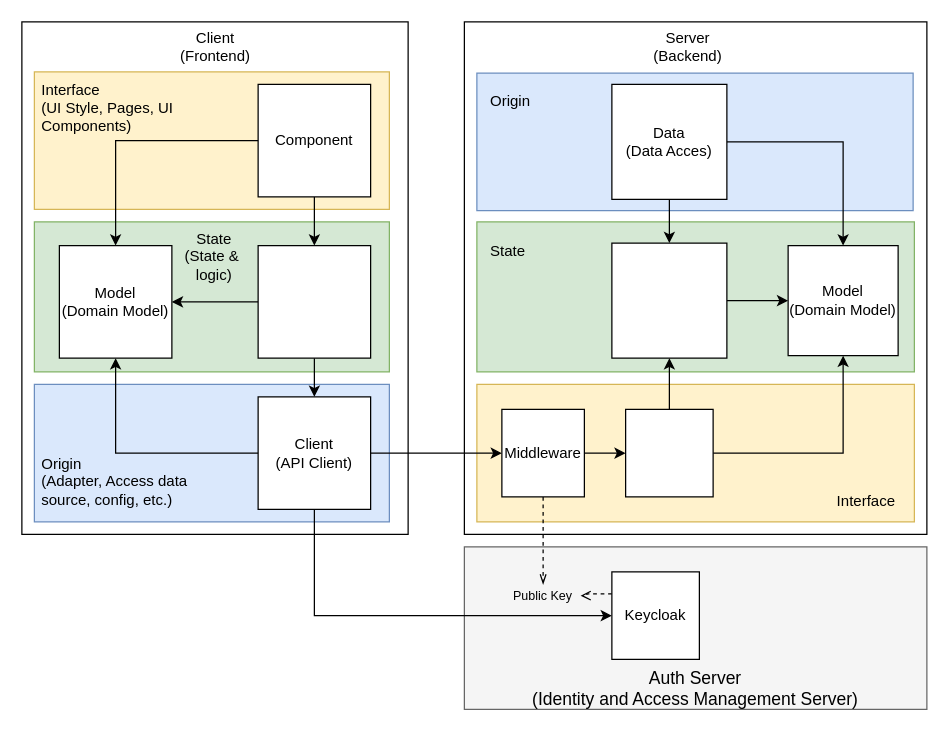
This 949x733 diagram has some shape labels left out. Each missing label, with the centre of its shape:
"Controller" belongs at pixel 668 452.
"Hook (State logic)" belongs at pixel 314 301.
"Service" belongs at pixel 669 300.
